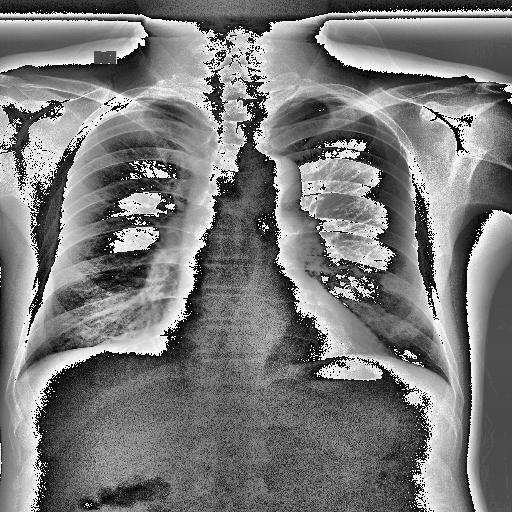0- Aortic enlargement: (236, 153, 302, 216), (244, 152, 300, 210), (244, 152, 304, 206)
11- Pleural thickening: (290, 102, 305, 108)
3- Cardiomegaly: (153, 310, 405, 379), (159, 304, 398, 366)
8- Nodule-Mass: (80, 330, 92, 340)
9- Other lesion: (80, 330, 92, 340)
